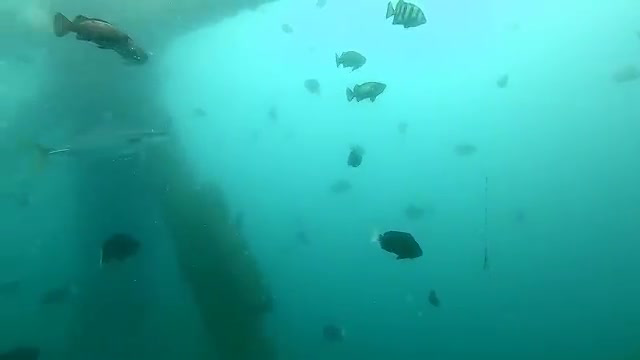hamati: (22, 115, 178, 181)
ishidai: (382, 1, 428, 32)
smallfish: (47, 9, 151, 65), (366, 226, 431, 262), (98, 228, 142, 274), (346, 77, 394, 106), (346, 141, 371, 177), (333, 45, 367, 71)
